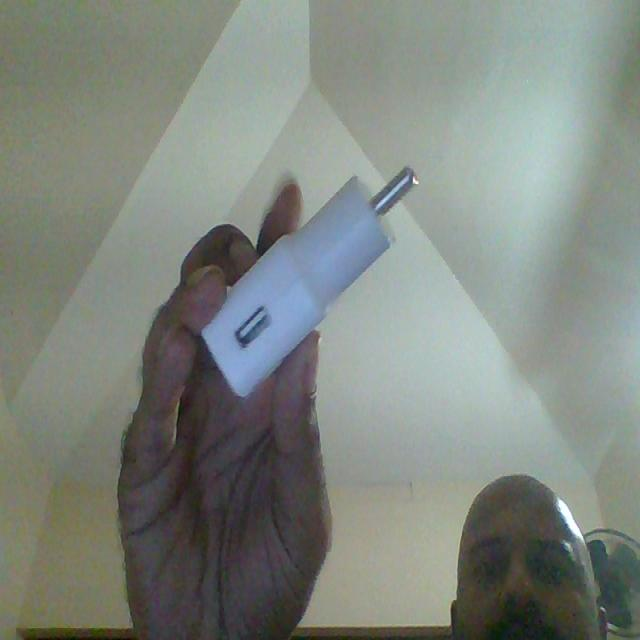charger: (200, 132, 443, 405)
